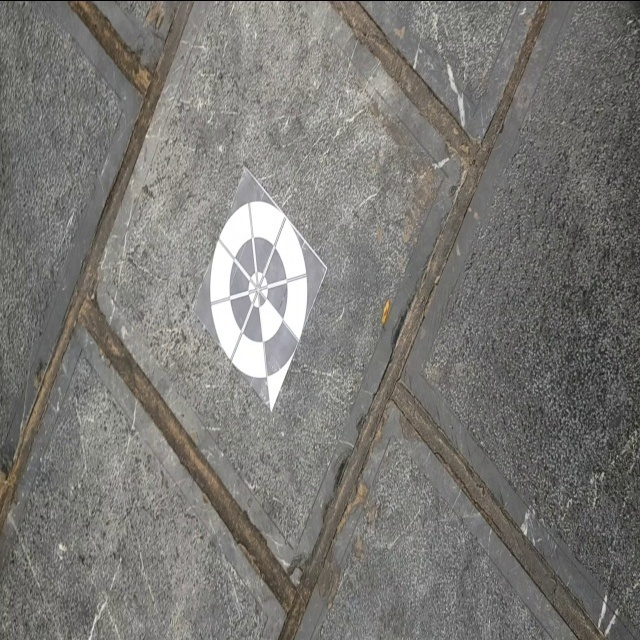landing-zone: (191, 160, 329, 411)
